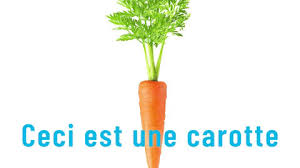carrot: (132, 70, 179, 168)
